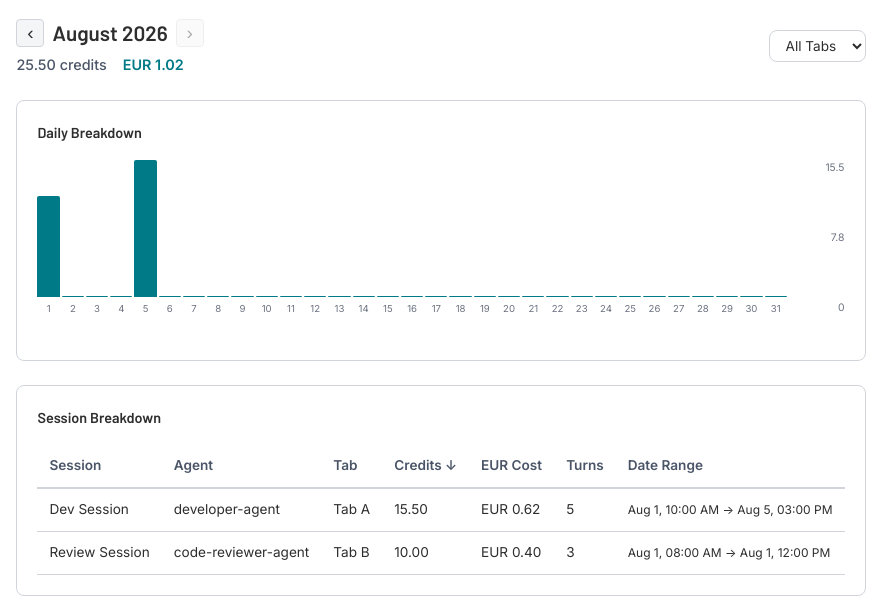
Test: UsagePanel › navigates between months without any network request
This screenshot has width=883, height=613.
Expected: the heading "August 2026" is shown, [52,16,168,49]
Note: Go back to July.
What coordinates should you click on to do the following:
click the button named "Previous month"
I would click on:
 (30, 33)
Its box is [16,19,44,47].
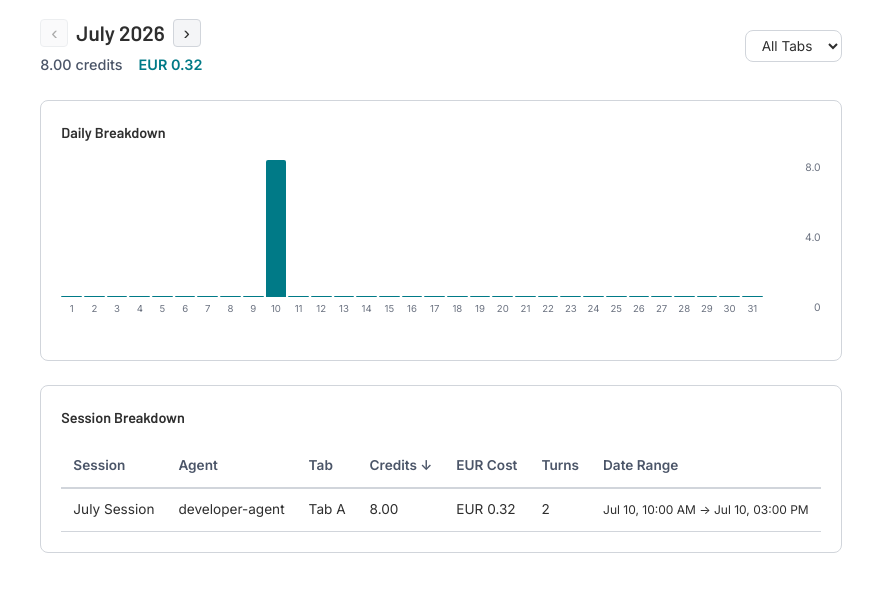
Expected: the heading "July 2026" is shown, [76,16,165,49]
Expected: the text "8.00 credits" is shown, [40,53,123,76]
Expected: the text "July Session" is shown, [61,488,166,532]
Note: Go forward to August again.
What coordinates should you click on to do the following:
click the button named "Next month"
I would click on:
 (187, 33)
Its box is [173,19,201,47].
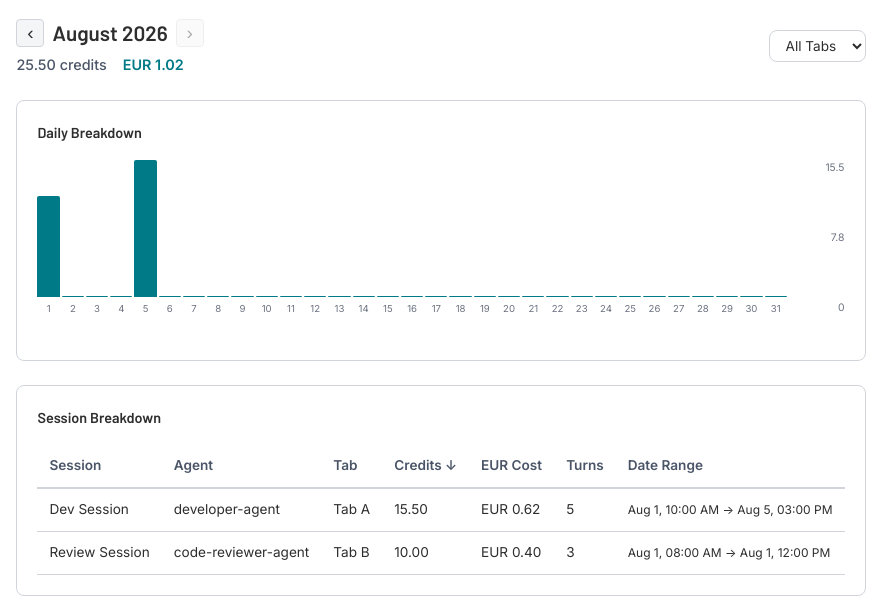
Expected: the heading "August 2026" is shown, [52,16,168,49]
